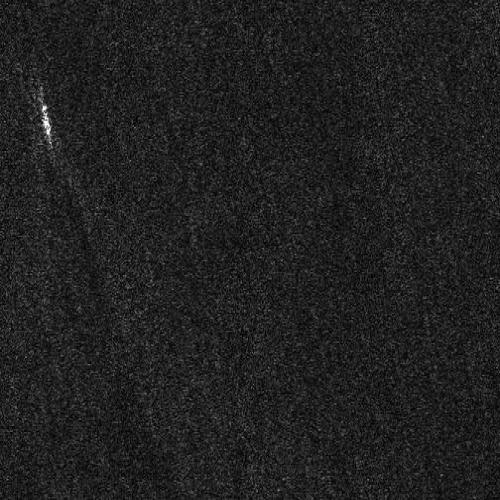ship: (40, 102, 52, 145)
